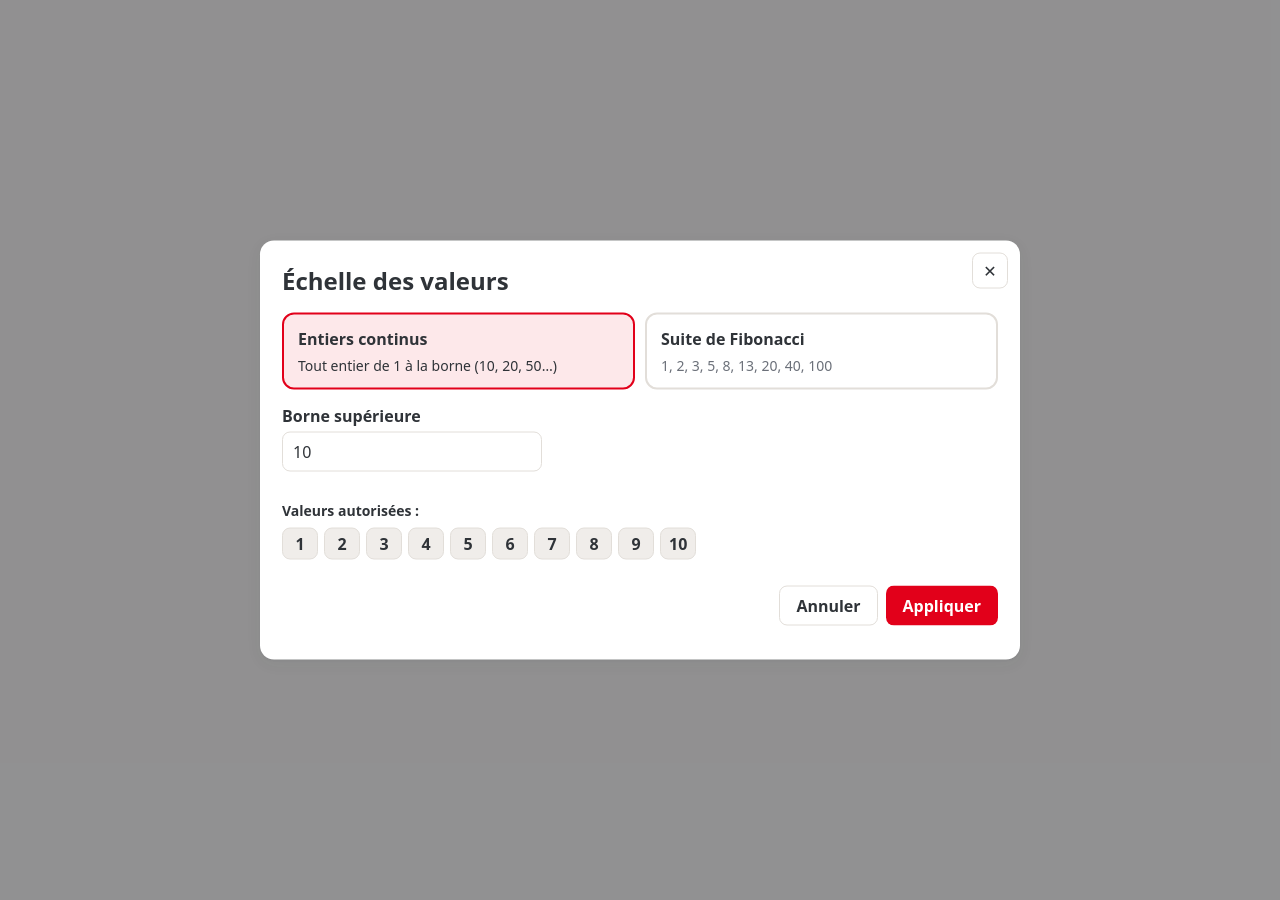
Test case: SettingsDialogComponent › refuses a bound outside 2 to 100
The width and height of the screenshot is (1280, 900).
Replace the text in the number field with id "settings-max" with "101" at (412, 452), box [282,432,542,472]
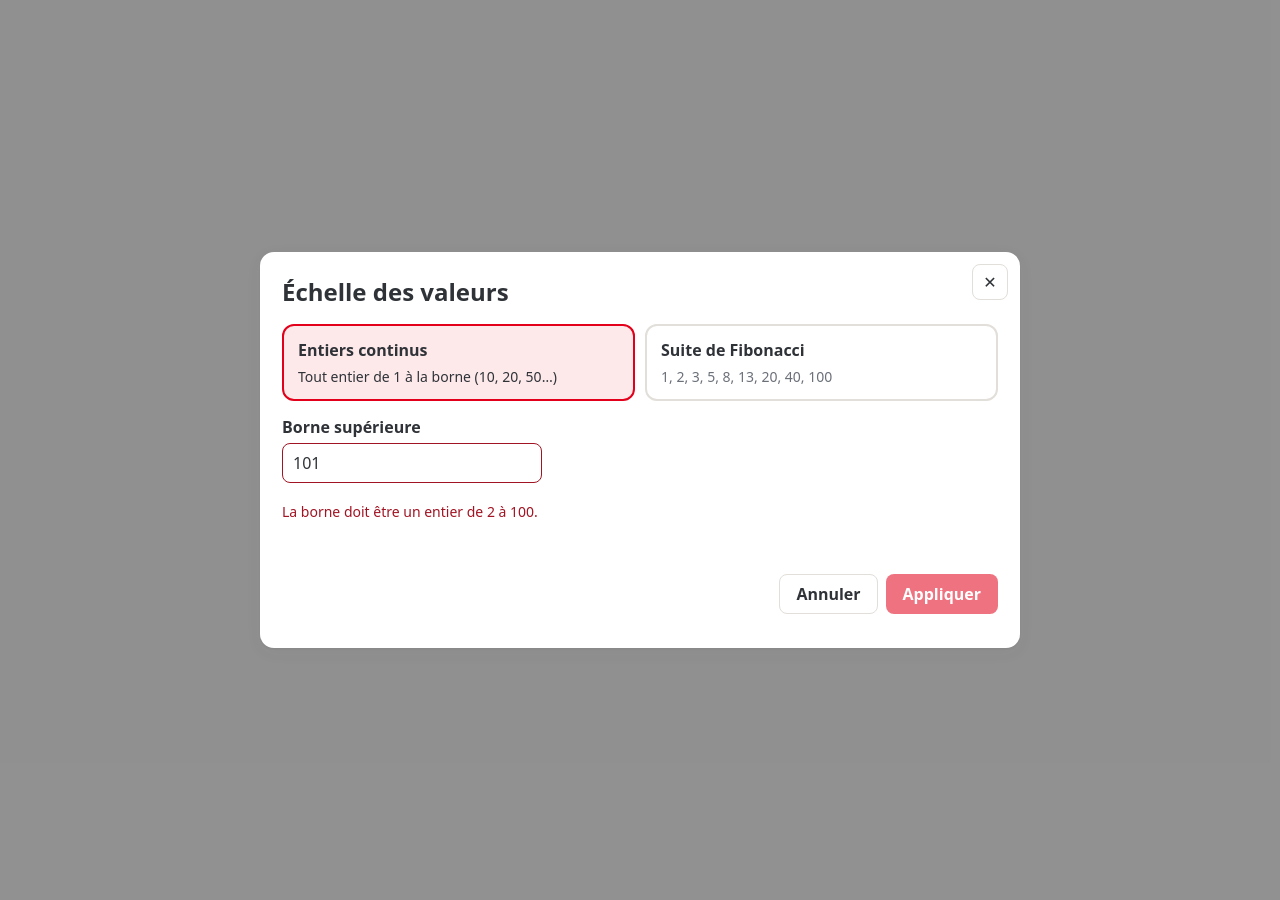
Expected: the text with id "settings-max-error" reads "La borne doit être un entier de 2 à 100.", [282,502,538,521]
